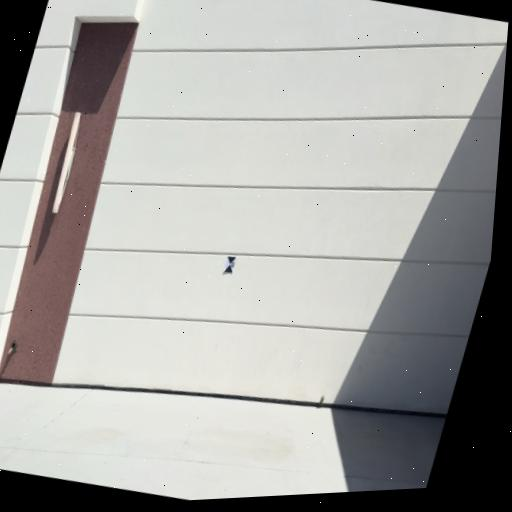target0: (223, 255, 236, 274)
